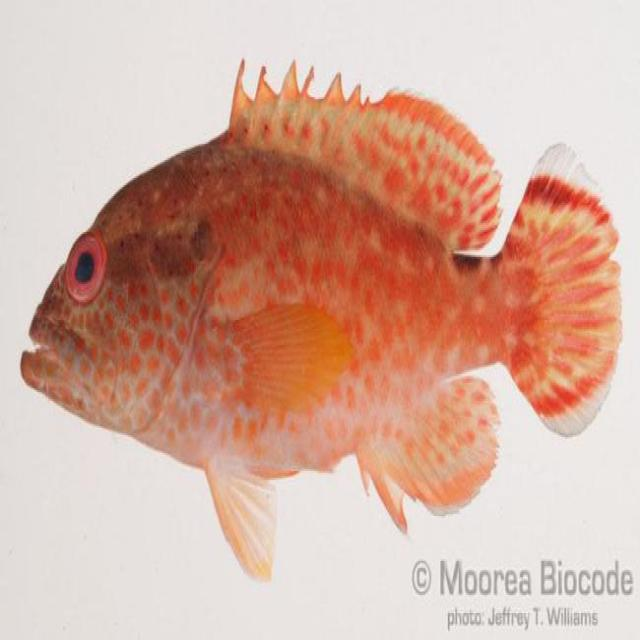ikan: (19, 54, 622, 582)
